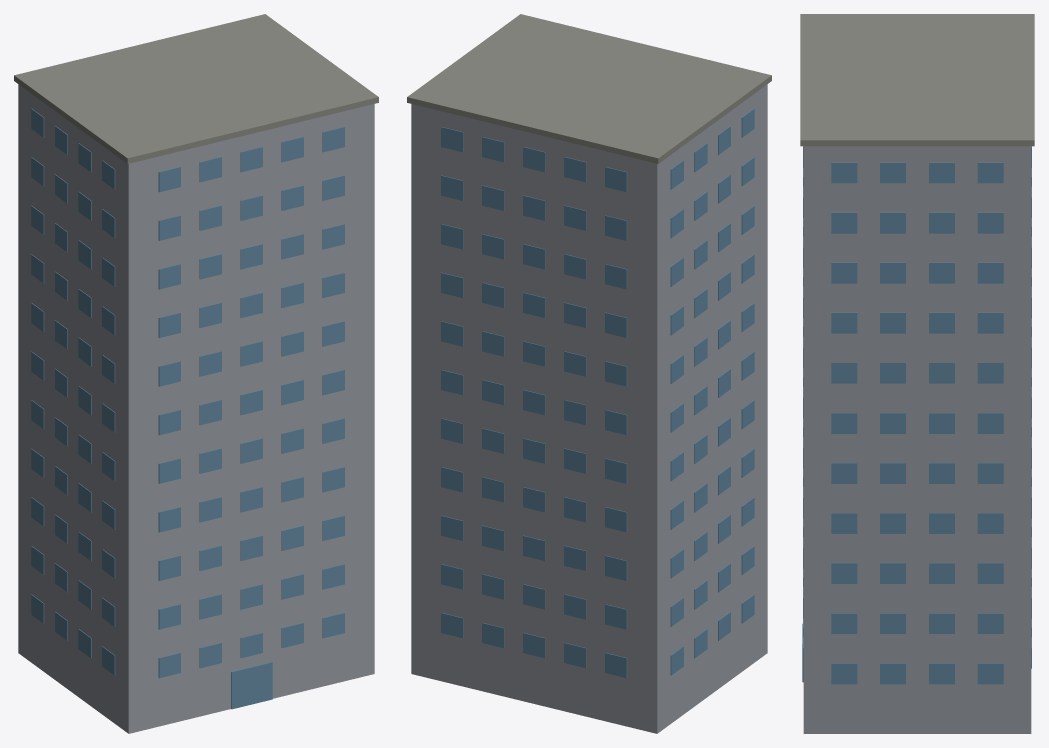
File: EdificioC.obj
3 renders of one model, left to right at view 1: azimuth 30°, elevation 25°; view 2: azimuth 150°, elevation 25°; view 3: azimuth 270°, elevation 25°, orthographic. The views are drawn at different scales.
Parts seen in each view (by area): view 1: EdificioC; view 2: EdificioC; view 3: EdificioC.
Part boxes in pixels (<box>): EdificioC: <box>14,14,378,733</box>; EdificioC: <box>407,14,771,733</box>; EdificioC: <box>800,14,1034,733</box>.
Size of the model in its own units: 18.4 by 40.4 by 14.4.
